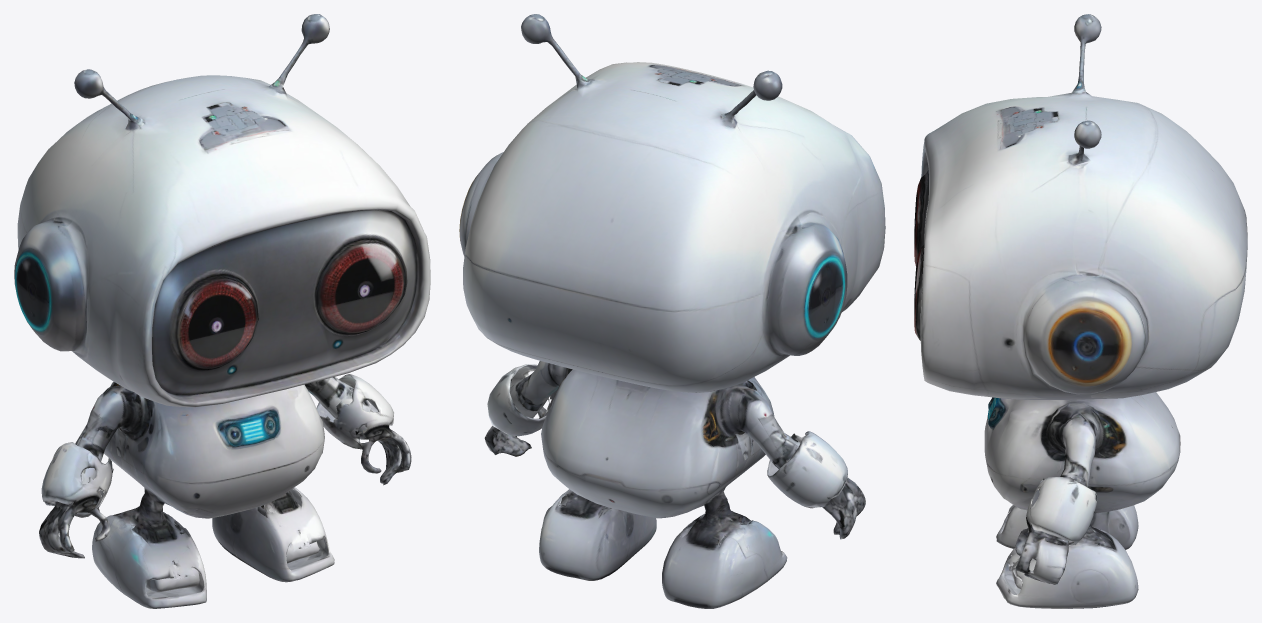
The model's file is Swarm_Monster.fbx.
The picture shows the model from 3 angles, left to right: view 1: azimuth 30°, elevation 25°; view 2: azimuth 150°, elevation 25°; view 3: azimuth 270°, elevation 25°; orthographic projection. The views are drawn at different scales.
Parts seen in each view (by area): view 1: Mesh1_Mesh1_015; view 2: Mesh1_Mesh1_015; view 3: Mesh1_Mesh1_015.
Boxes of the visible parts, bbox=[...] form: Mesh1_Mesh1_015: bbox=[14, 14, 430, 608]; Mesh1_Mesh1_015: bbox=[459, 14, 885, 608]; Mesh1_Mesh1_015: bbox=[914, 14, 1247, 608].
Bounding box in the file's own units: 141 × 200 × 120.
Materials: 1 (1 with a texture image).
